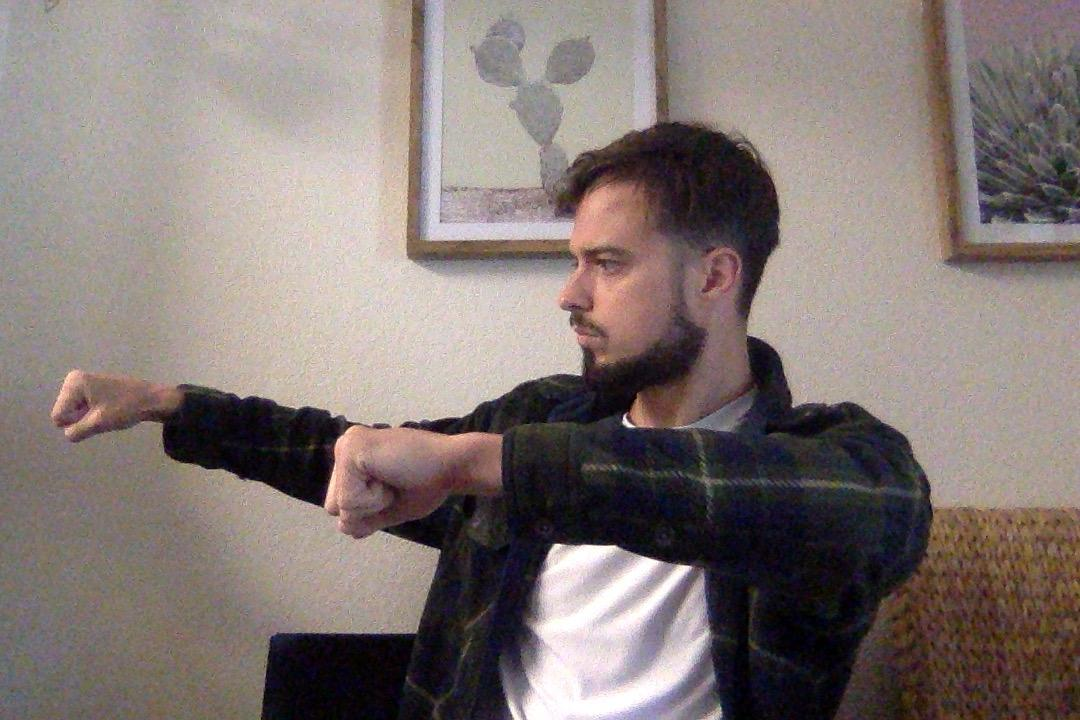Right-Fist: (319, 428, 488, 548), (53, 369, 165, 453)
